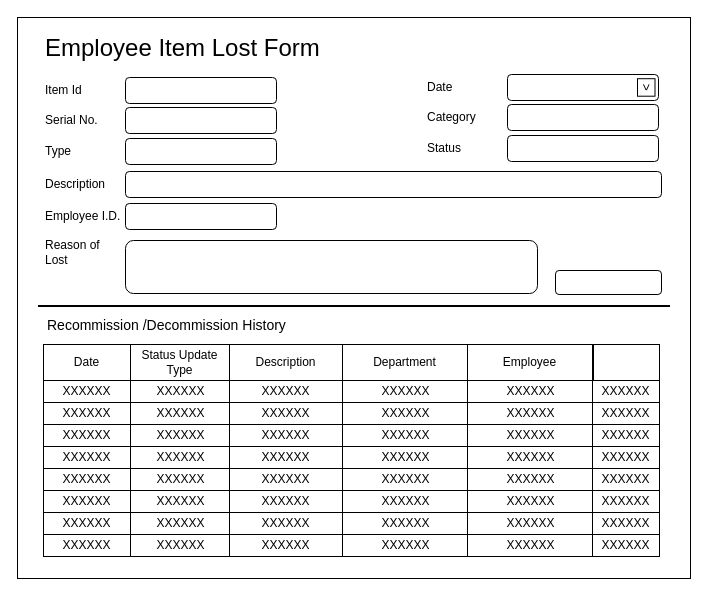
Image size: 708x596. Some labels were removed from this diagram. The centre of each missing label's shape, as x and y in pixels:
"Admin" belongs at point 626,362.
"Create Report" belongs at point 608,282.
